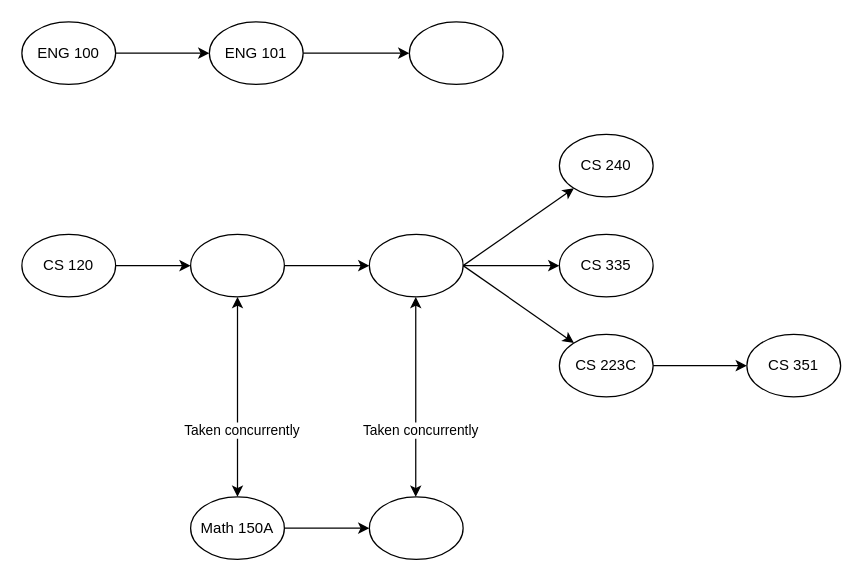
This 863x581 diagram has some shape labels left out. The centre of each missing label's shape, as x and y in pixels:
"CS 121" goes at [236,265].
"CS 131" goes at [415,265].
"ENG 200" goes at [455,52].
"Math 150B" goes at [415,527].
